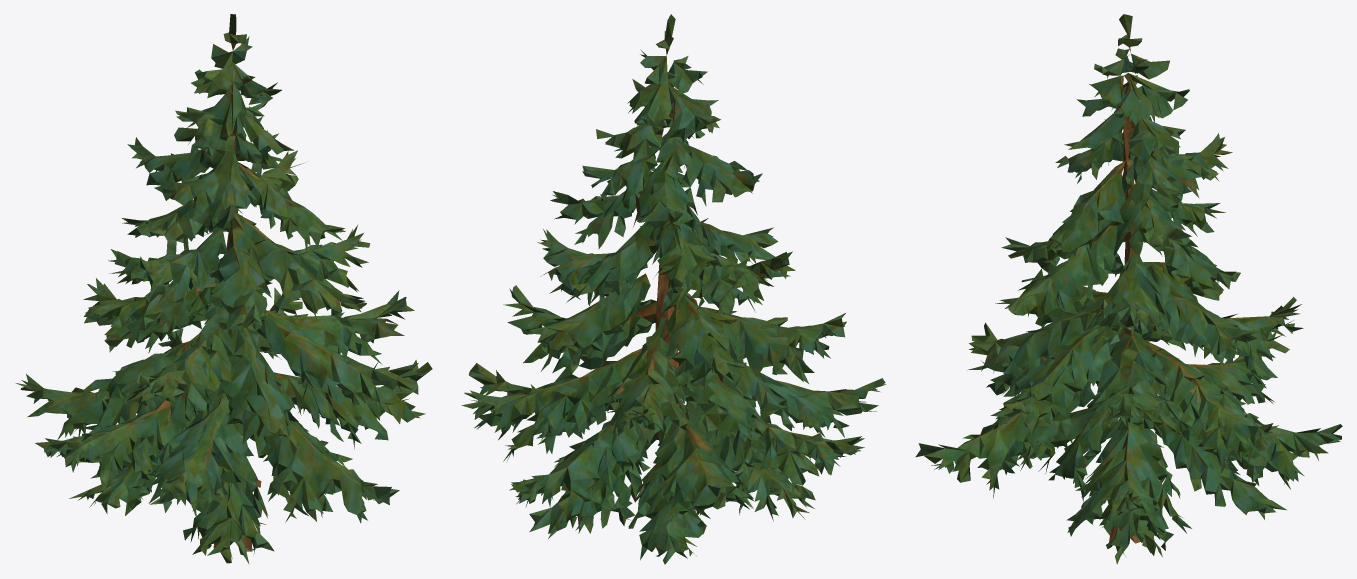
Rendered from pine_b.glb.
3 views of the same model, side by side, from view 1: azimuth 30°, elevation 25°; view 2: azimuth 150°, elevation 25°; view 3: azimuth 270°, elevation 25° (orthographic).
Size of the model in its own units: 1.46 by 1.89 by 1.39.
1 material, 1 textured.
